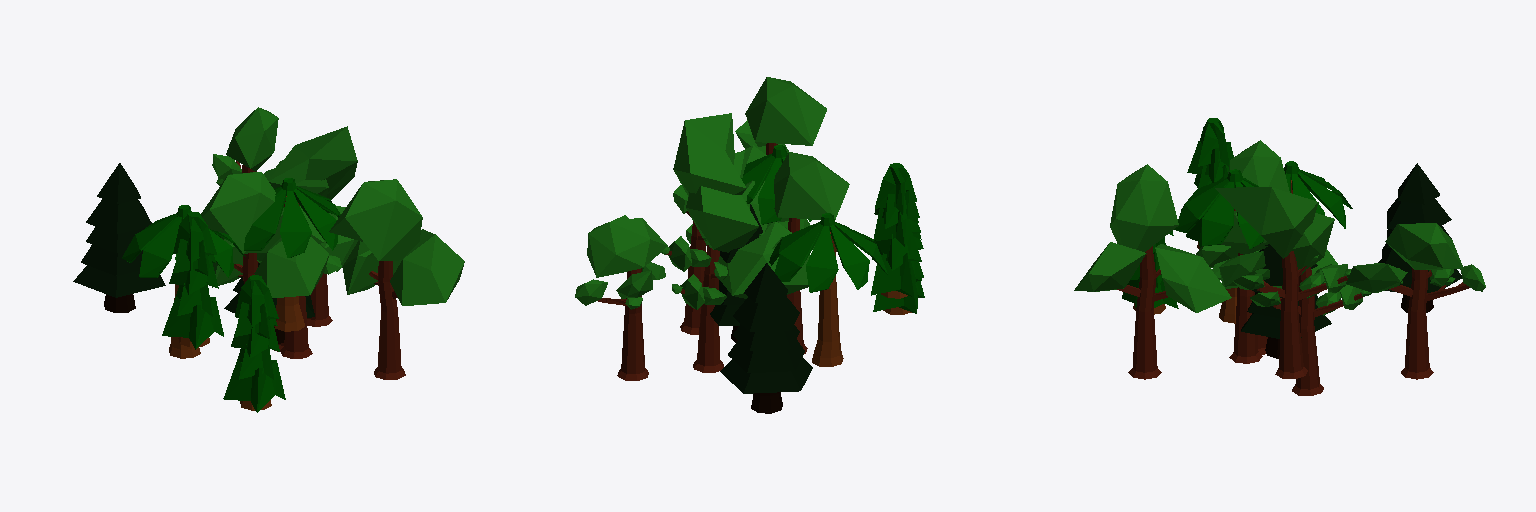
File: tree_forsell.obj
The picture shows the model from 3 angles: view 1: azimuth 30°, elevation 25°; view 2: azimuth 150°, elevation 25°; view 3: azimuth 270°, elevation 25°; orthographic projection.
Parts seen in each view (by area): view 1: TR1_3_Icosphere.006, TR1_3.001_Icosphere.002, TR2_1_Cylinder.002, TR4_1.000_Icosphere.000, TR4_1.001_Icosphere.008, TR3_1.001_Icosphere.001, TR1_2_Icosphere.003, TR3_1_Icosphere.007, TR1_1_Cylinder, TR1_1.001_Cylinder.003; view 2: TR2_1_Cylinder.002, TR1_3.001_Icosphere.002, TR3_1_Icosphere.007, TR1_1_Cylinder, TR1_2.001_Icosphere.004, TR1_2_Icosphere.003, TR4_1.000_Icosphere.000, TR1_3_Icosphere.006, TR3_1.001_Icosphere.001, TR2_1.001_Cylinder.001, TR4_1.001_Icosphere.008; view 3: TR1_3_Icosphere.006, TR1_2_Icosphere.003, TR1_1_Cylinder, TR1_2.001_Icosphere.004, TR3_1.001_Icosphere.001, TR2_1_Cylinder.002, TR1_1.001_Cylinder.003, TR1_3.001_Icosphere.002, TR4_1.000_Icosphere.000, TR2_1.001_Cylinder.001, TR3_1_Icosphere.007, TR4_1.001_Icosphere.008.
Part boxes in pixels (x1,y1,x2,y2): TR1_3_Icosphere.006: (329, 179, 464, 379); TR1_3.001_Icosphere.002: (201, 172, 328, 297); TR2_1_Cylinder.002: (73, 163, 165, 312); TR4_1.000_Icosphere.000: (162, 212, 223, 349); TR4_1.001_Icosphere.008: (223, 275, 285, 412); TR3_1.001_Icosphere.001: (244, 178, 340, 331); TR1_2_Icosphere.003: (269, 126, 357, 326); TR3_1_Icosphere.007: (122, 205, 245, 358); TR1_1_Cylinder: (212, 107, 282, 185); TR1_1.001_Cylinder.003: (257, 205, 357, 358); TR2_1_Cylinder.002: (720, 263, 812, 413); TR1_3.001_Icosphere.002: (714, 152, 849, 353); TR3_1_Icosphere.007: (769, 213, 887, 366); TR1_1_Cylinder: (575, 215, 667, 380); TR1_2.001_Icosphere.004: (672, 151, 758, 372); TR1_2_Icosphere.003: (661, 113, 746, 334); TR4_1.000_Icosphere.000: (871, 163, 921, 298); TR1_3_Icosphere.006: (735, 77, 826, 163); TR3_1.001_Icosphere.001: (741, 145, 811, 224); TR2_1.001_Cylinder.001: (710, 204, 762, 342); TR4_1.001_Icosphere.008: (873, 201, 924, 314); TR1_3_Icosphere.006: (1074, 164, 1231, 379); TR1_2_Icosphere.003: (1215, 187, 1351, 378); TR1_1_Cylinder: (1346, 223, 1485, 379); TR1_2.001_Icosphere.004: (1231, 205, 1371, 395); TR3_1.001_Icosphere.001: (1174, 169, 1263, 323); TR2_1_Cylinder.002: (1378, 163, 1461, 312); TR1_1.001_Cylinder.003: (1212, 211, 1268, 363); TR1_3.001_Icosphere.002: (1196, 140, 1337, 354); TR4_1.000_Icosphere.000: (1186, 118, 1233, 248); TR2_1.001_Cylinder.001: (1241, 244, 1331, 358); TR3_1_Icosphere.007: (1284, 161, 1352, 228); TR4_1.001_Icosphere.008: (1122, 231, 1178, 314).
Size of the model in its own units: 6.05 by 5.37 by 8.98.